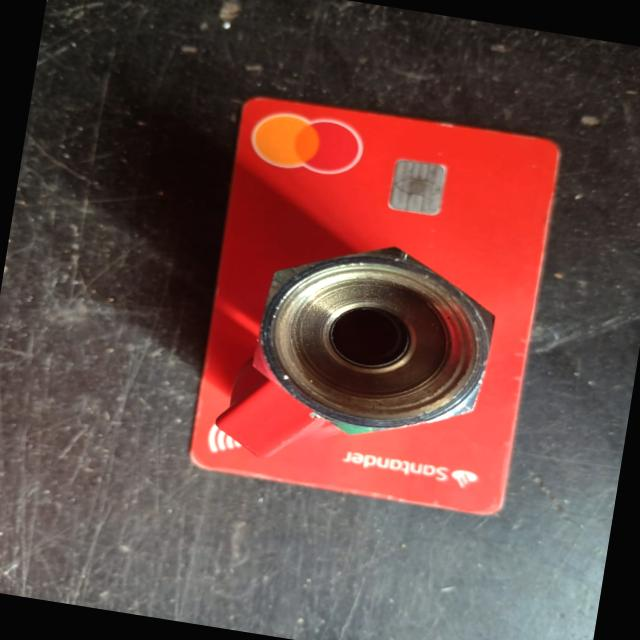cartao: (188, 91, 562, 518)
rosca_interna: (211, 222, 504, 489)
